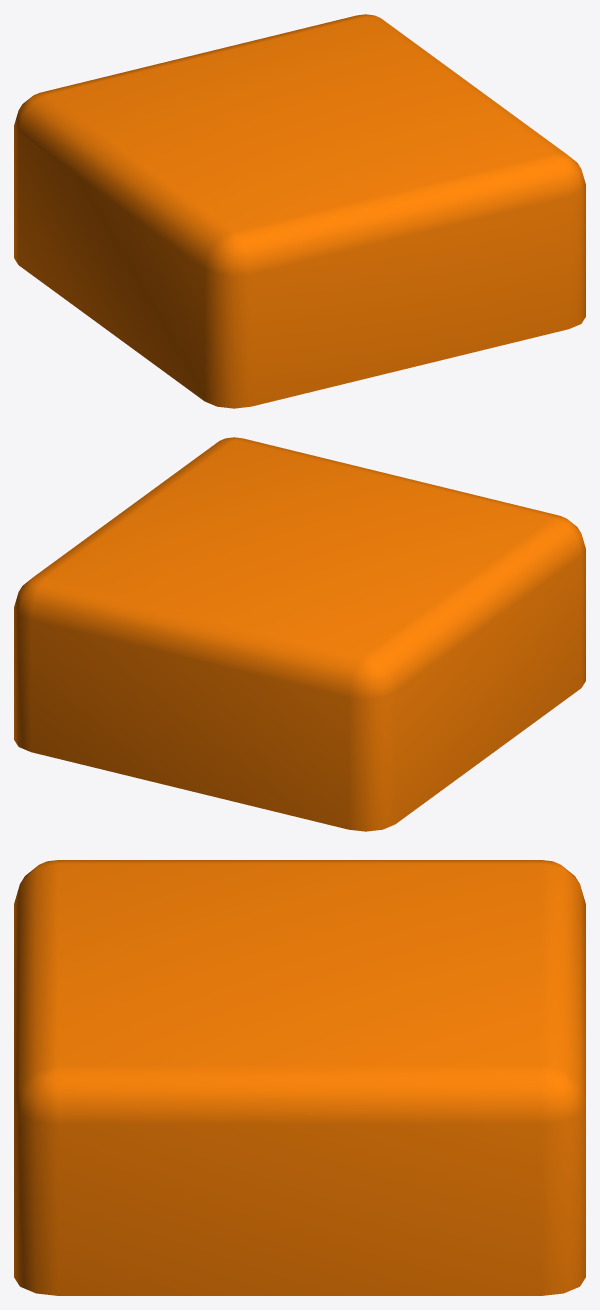
Rendered from DecorMachine_Buttons_Quit.FBX.
3 renders of one model, top to bottom at view 1: azimuth 30°, elevation 25°; view 2: azimuth 150°, elevation 25°; view 3: azimuth 270°, elevation 25°, orthographic. The views are drawn at different scales.
Visible parts, largest first — view 1: DecorMachine_Buttons_Quit; view 2: DecorMachine_Buttons_Quit; view 3: DecorMachine_Buttons_Quit.
Boxes of the visible parts, x1,y1,x2,y2 form: DecorMachine_Buttons_Quit: [14, 14, 585, 408]; DecorMachine_Buttons_Quit: [14, 437, 585, 831]; DecorMachine_Buttons_Quit: [14, 860, 585, 1295].
Size of the model in its own units: 1614 by 668 by 1634.
